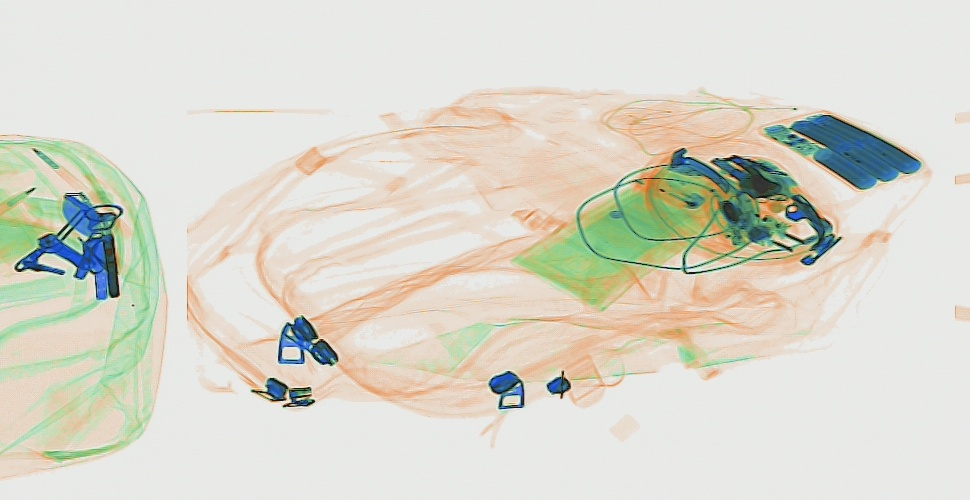powerbank: (754, 105, 923, 193)
